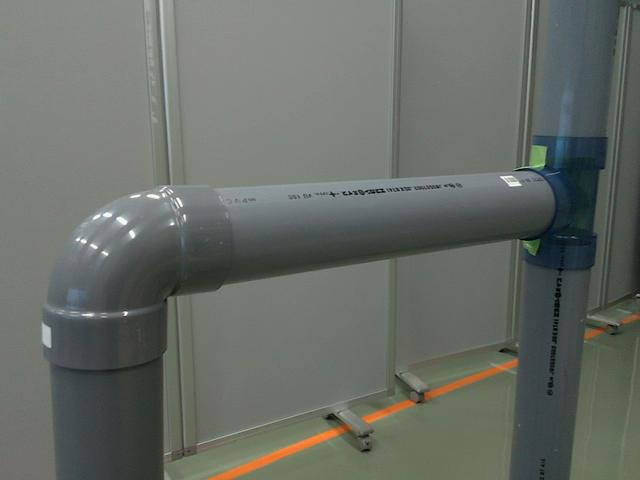bent: (42, 180, 230, 370)
junction: (506, 138, 608, 271)
